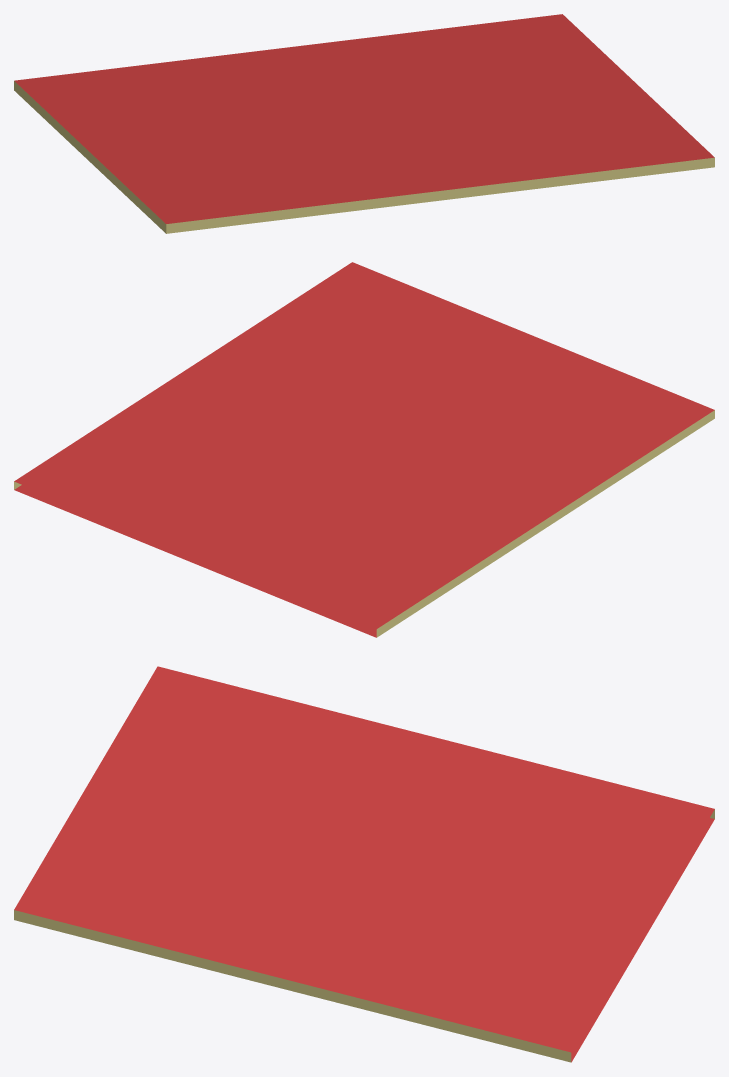
3 views of the same model, one above another, from view 1: azimuth 30°, elevation 25°; view 2: azimuth 150°, elevation 25°; view 3: azimuth 270°, elevation 25° (orthographic). The views are drawn at different scales.
Size of the model in its own units: 6.41 by 6.28 by 0.93.
